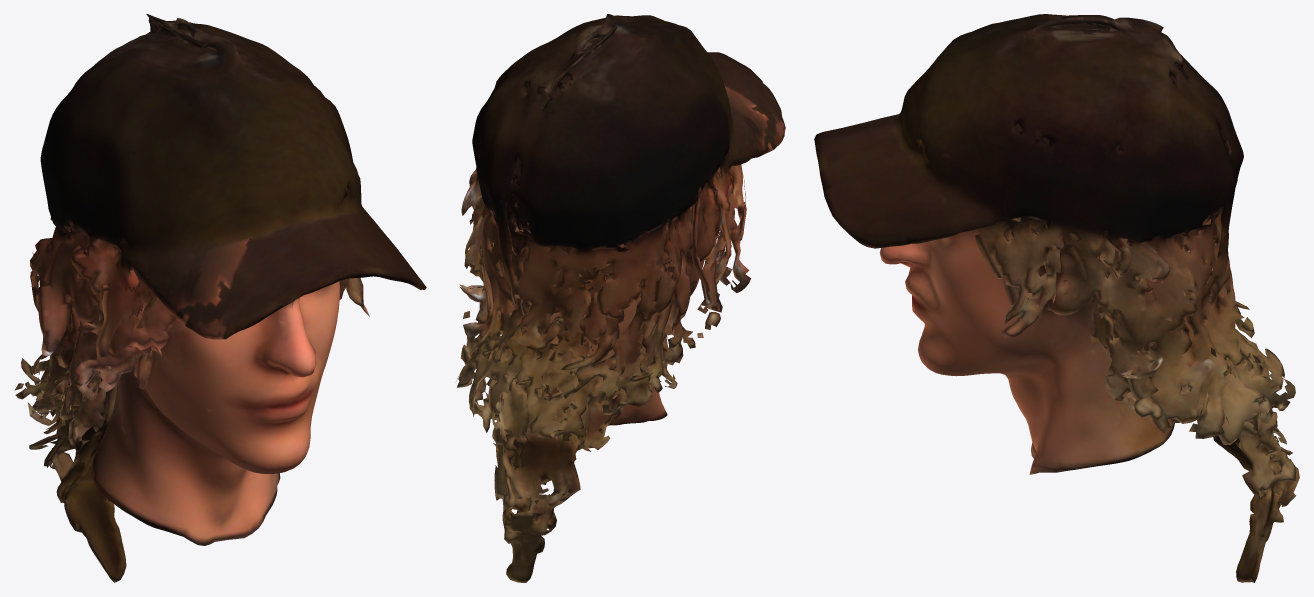
File: Contemplative_Moment_1003034332.glb
3 renders of one model, left to right at view 1: azimuth 30°, elevation 25°; view 2: azimuth 150°, elevation 25°; view 3: azimuth 270°, elevation 25°, orthographic. The views are drawn at different scales.
Size of the model in its own units: 0.9819 by 1.99 by 1.55.
1 material, 1 textured.
